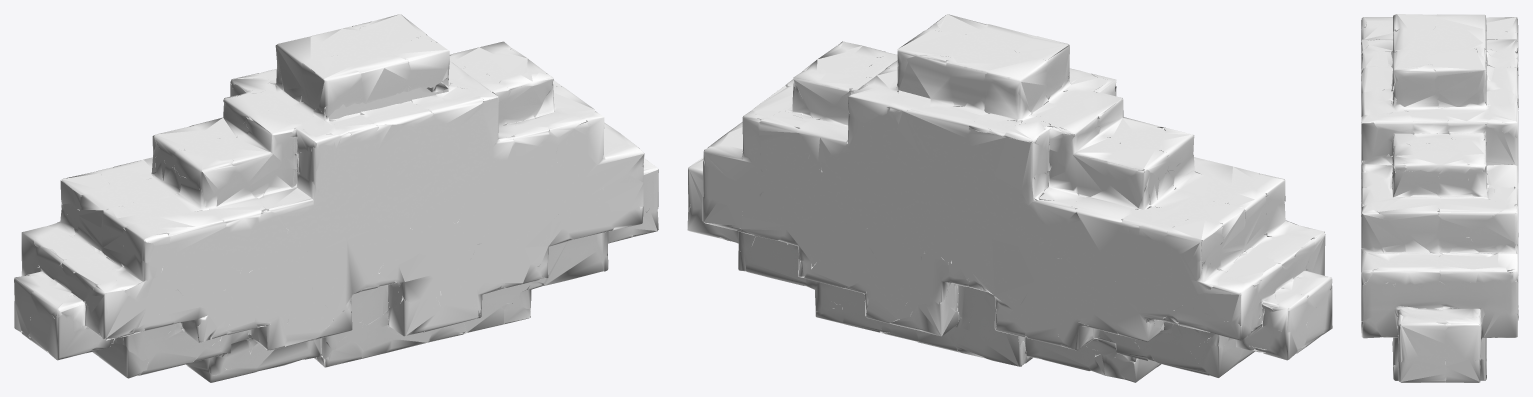
Rendered from nube1.fbx.
3 views of the same model, side by side, from view 1: azimuth 30°, elevation 25°; view 2: azimuth 150°, elevation 25°; view 3: azimuth 270°, elevation 25° (orthographic). The views are drawn at different scales.
Visible parts, largest first — view 1: Mesh_0.013; view 2: Mesh_0.013; view 3: Mesh_0.013.
Boxes of the visible parts, x1,y1,x2,y2 form: Mesh_0.013: [14, 14, 658, 382]; Mesh_0.013: [687, 14, 1332, 382]; Mesh_0.013: [1361, 14, 1518, 382].
Bounding box in the file's own units: 190 × 87.09 × 46.67.
1 material, 1 textured.
